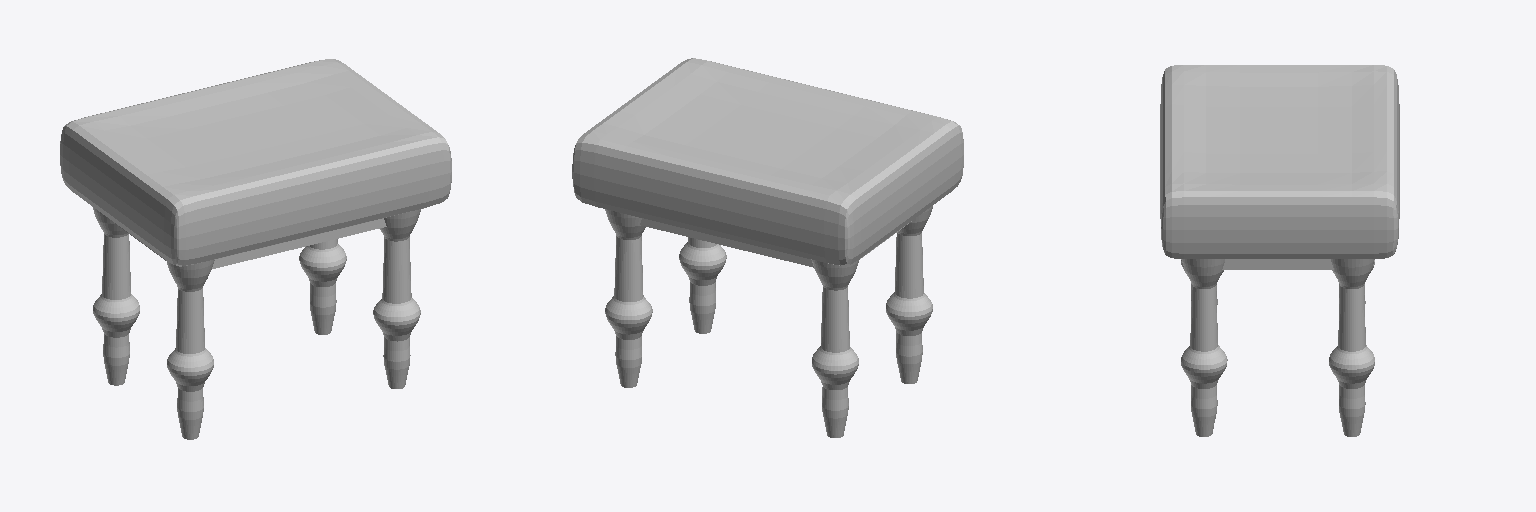
Rendered from silla.obj.
The picture shows the model from 3 angles: view 1: azimuth 30°, elevation 25°; view 2: azimuth 150°, elevation 25°; view 3: azimuth 270°, elevation 25°; orthographic projection.
Visible parts, largest first — view 1: defaultMaterial.008_Cushion_Mat, defaultMaterial.004_Leg4_Mat1, defaultMaterial.007_Leg1_Mat1, defaultMaterial.005_Leg3_Mat1, defaultMaterial.006_Leg2_Mat1, defaultMaterial.003_Cuboid1_Mat; view 2: defaultMaterial.008_Cushion_Mat, defaultMaterial.005_Leg3_Mat1, defaultMaterial.006_Leg2_Mat1, defaultMaterial.004_Leg4_Mat1, defaultMaterial.007_Leg1_Mat1, defaultMaterial.002_Cuboid2_Mat; view 3: defaultMaterial.008_Cushion_Mat, defaultMaterial.007_Leg1_Mat1, defaultMaterial.006_Leg2_Mat1, defaultMaterial_Cuboid4_Mat.
Part boxes in pixels (bbox=[...]): defaultMaterial.008_Cushion_Mat: bbox=[60, 59, 451, 266]; defaultMaterial.004_Leg4_Mat1: bbox=[167, 260, 214, 439]; defaultMaterial.007_Leg1_Mat1: bbox=[373, 209, 420, 388]; defaultMaterial.005_Leg3_Mat1: bbox=[92, 206, 139, 385]; defaultMaterial.006_Leg2_Mat1: bbox=[299, 239, 346, 334]; defaultMaterial.003_Cuboid1_Mat: bbox=[212, 218, 386, 268]; defaultMaterial.008_Cushion_Mat: bbox=[572, 58, 963, 265]; defaultMaterial.005_Leg3_Mat1: bbox=[811, 259, 859, 437]; defaultMaterial.006_Leg2_Mat1: bbox=[605, 209, 652, 387]; defaultMaterial.004_Leg4_Mat1: bbox=[886, 206, 932, 383]; defaultMaterial.007_Leg1_Mat1: bbox=[679, 237, 726, 333]; defaultMaterial.002_Cuboid2_Mat: bbox=[640, 218, 813, 267]; defaultMaterial.008_Cushion_Mat: bbox=[1160, 65, 1399, 258]; defaultMaterial.007_Leg1_Mat1: bbox=[1181, 259, 1227, 436]; defaultMaterial.006_Leg2_Mat1: bbox=[1329, 259, 1374, 436]; defaultMaterial_Cuboid4_Mat: bbox=[1222, 259, 1333, 269].
Size of the model in its own units: 2 by 1.75 by 1.48.